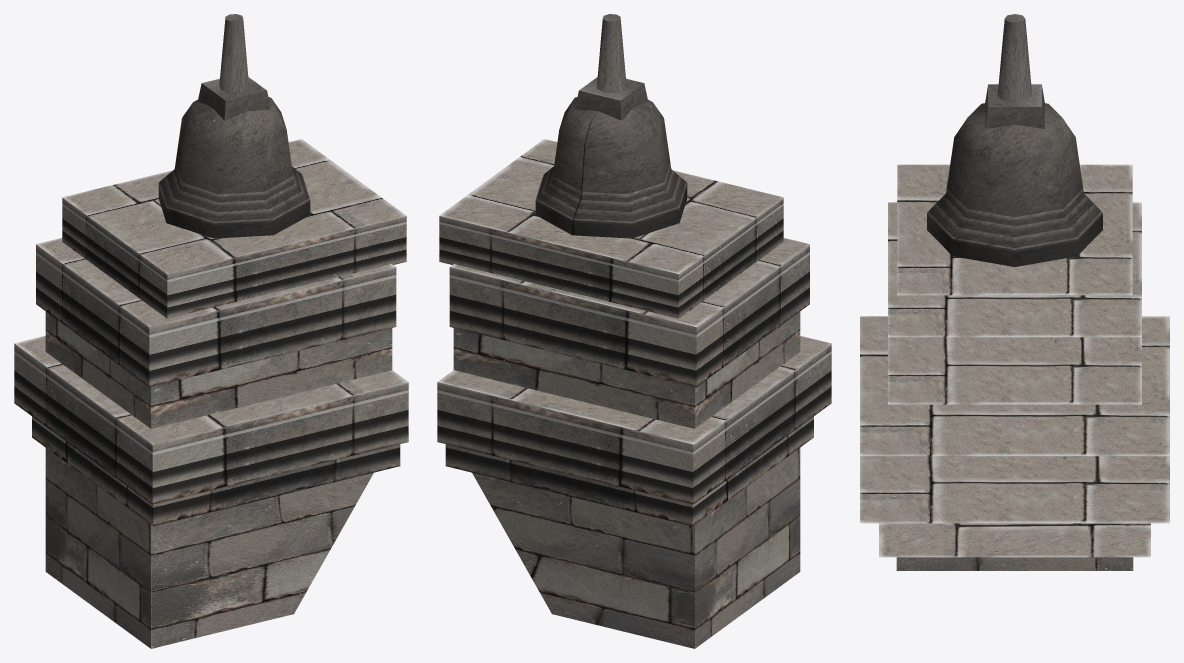
File: Gate_E.FBX
3 views of the same model, side by side, from view 1: azimuth 30°, elevation 25°; view 2: azimuth 150°, elevation 25°; view 3: azimuth 270°, elevation 25° (orthographic). The views are drawn at different scales.
Parts seen in each view (by area): view 1: Gate_E; view 2: Gate_E; view 3: Gate_E.
Boxes of the visible parts, left/top/right/bottom form: Gate_E: left=14, top=14, right=408, bottom=648; Gate_E: left=437, top=14, right=831, bottom=648; Gate_E: left=860, top=14, right=1169, bottom=570.
Bounding box in the file's own units: 1.48 × 2.93 × 1.31.
